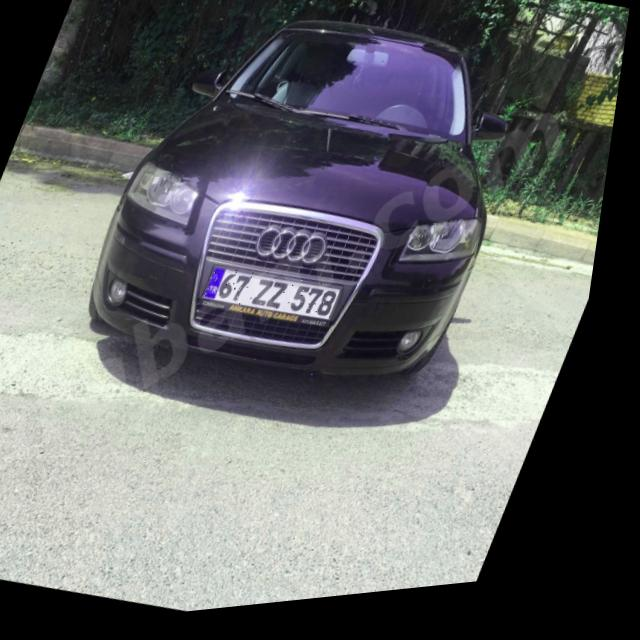license_plate: (207, 259, 356, 339)
